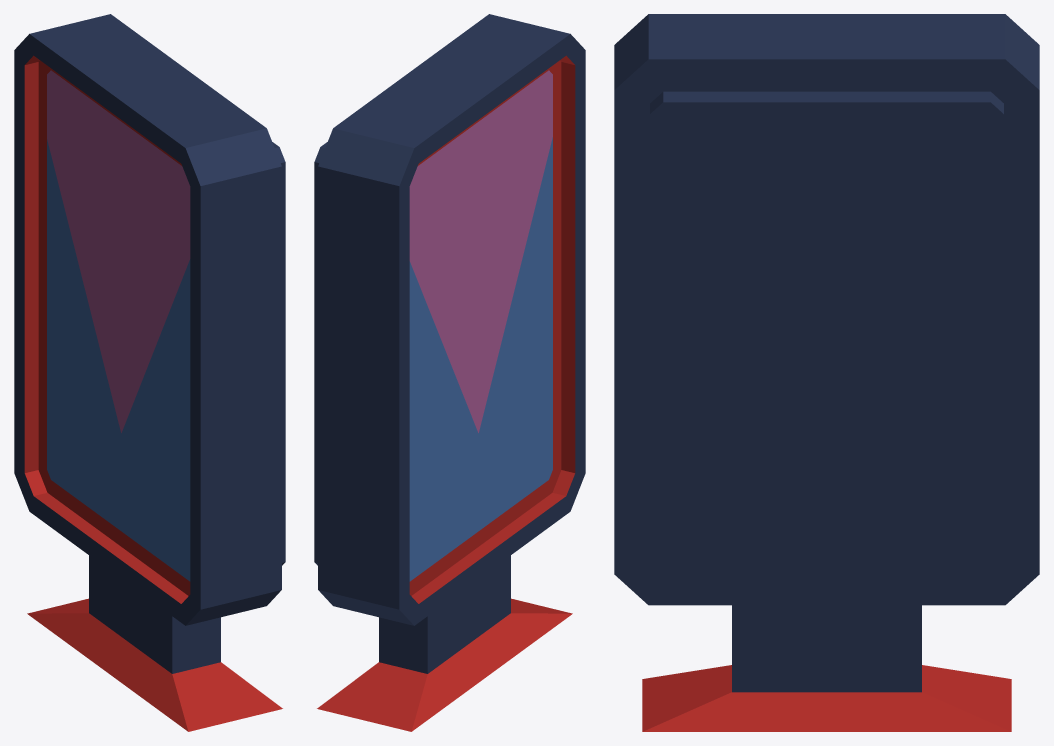
Rendered from AdDisplay04.fbx.
3 views of the same model, side by side, from view 1: azimuth 30°, elevation 25°; view 2: azimuth 150°, elevation 25°; view 3: azimuth 270°, elevation 25° (orthographic). The views are drawn at different scales.
Visible parts, largest first — view 1: AdDisplay04; view 2: AdDisplay04; view 3: AdDisplay04.
Part boxes in pixels (x1=…): AdDisplay04: x1=14, y1=14, x2=285, y2=731; AdDisplay04: x1=314, y1=14, x2=585, y2=731; AdDisplay04: x1=614, y1=14, x2=1039, y2=731.
Size of the model in its own units: 51.29 by 284 by 164.
